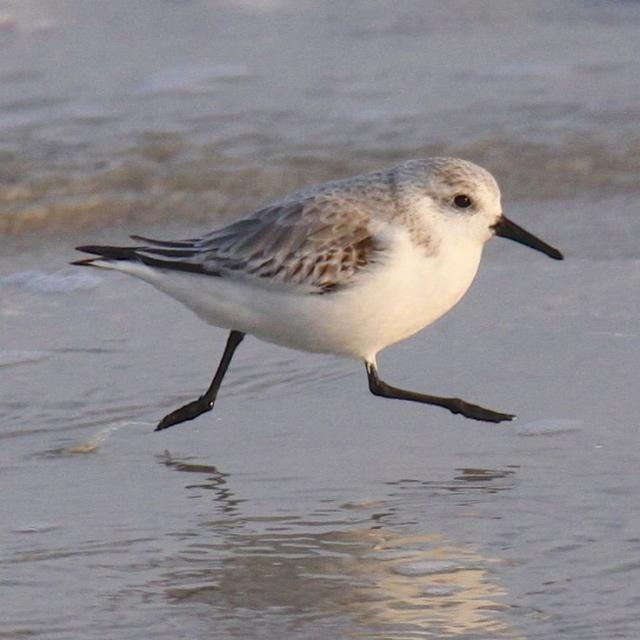Sandpiper: (65, 145, 570, 435)
